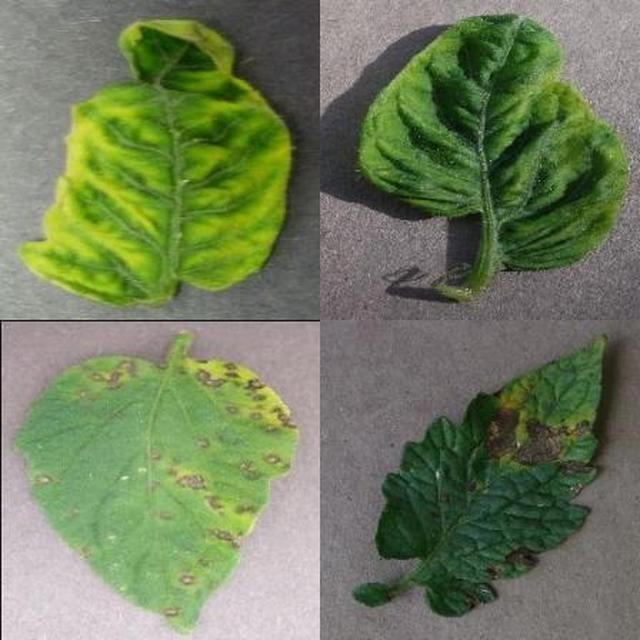Yellow Leaf Curl Virus: (221, 201, 640, 640)
